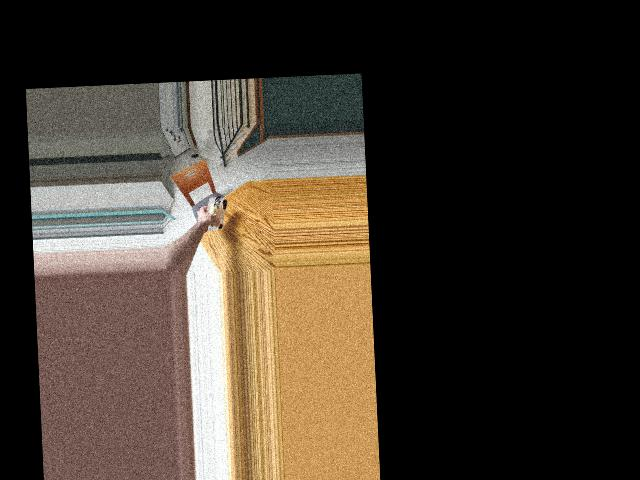cheese: (204, 197, 228, 231)
